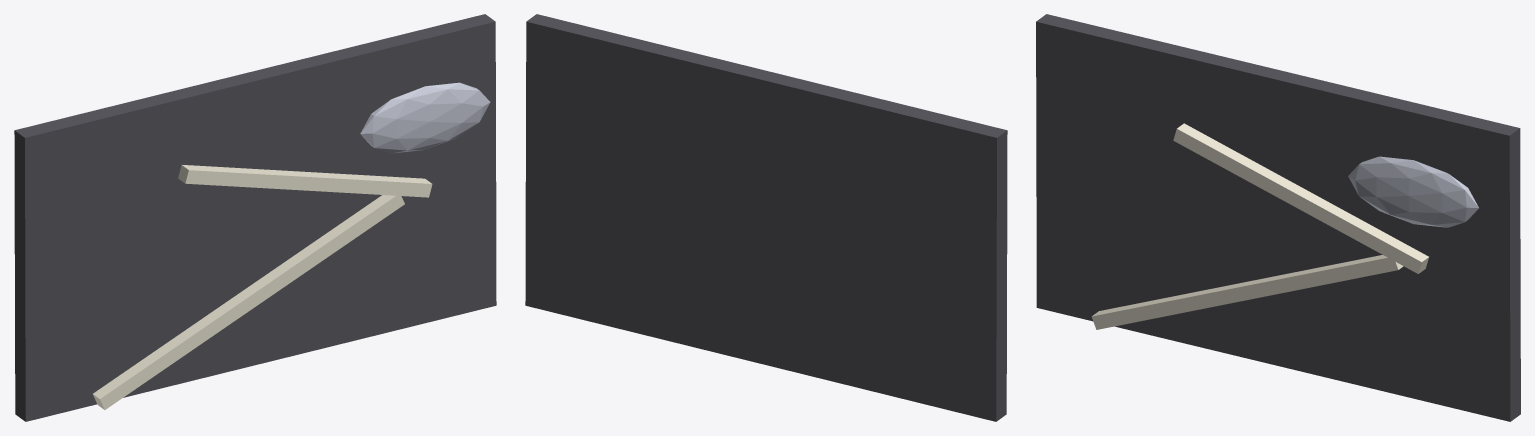
Rendered from 05_weathering_wear_overlay_5.glb.
The picture shows the model from 3 angles, left to right: view 1: azimuth 30°, elevation 25°; view 2: azimuth 150°, elevation 25°; view 3: azimuth 330°, elevation 25°; orthographic projection.
Parts seen in each view (by area): view 1: wear_plate, scratch_a, rust_or_moss_spot, scratch_b; view 2: wear_plate; view 3: wear_plate, rust_or_moss_spot, scratch_b, scratch_a.
Boxes of the visible parts, box(x1,y1,x2,y2) form: wear_plate: box(14, 14, 496, 421); scratch_a: box(93, 195, 404, 409); rust_or_moss_spot: box(360, 82, 490, 153); scratch_b: box(178, 165, 432, 197); wear_plate: box(525, 14, 1007, 421); wear_plate: box(1036, 14, 1520, 421); rust_or_moss_spot: box(1348, 156, 1478, 227); scratch_b: box(1173, 123, 1428, 273); scratch_a: box(1091, 255, 1403, 329).
Size of the model in its own units: 1.3 by 0.7538 by 0.134.
